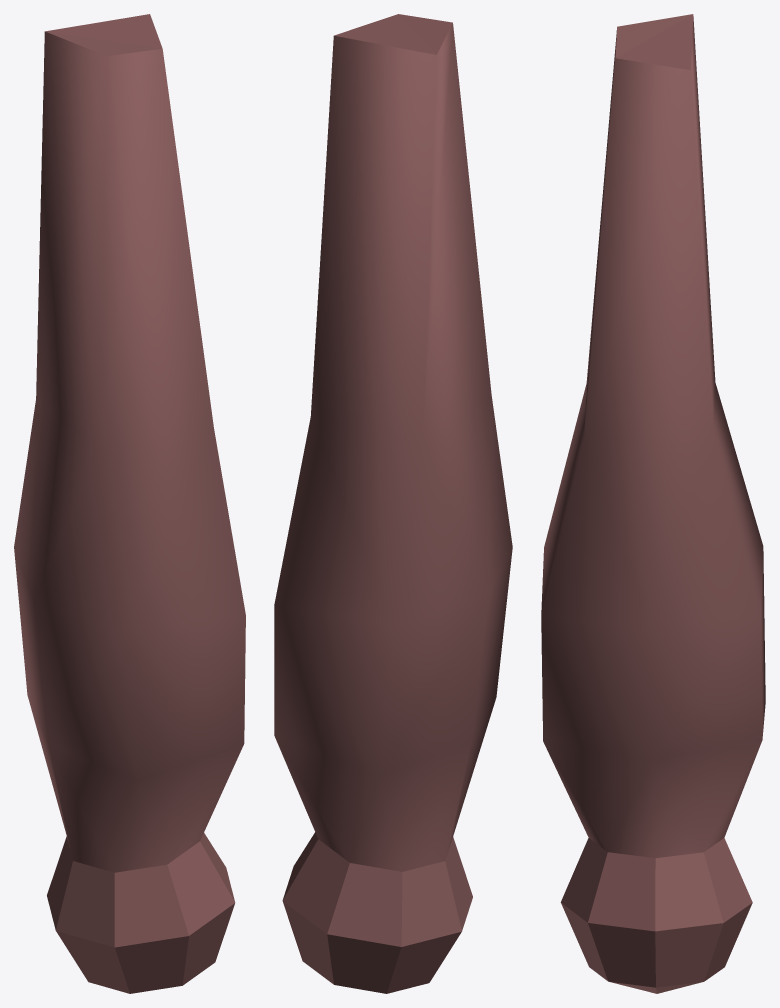
Rendered from forearm_r.dae.
The picture shows the model from 3 angles, left to right: view 1: azimuth 30°, elevation 25°; view 2: azimuth 150°, elevation 25°; view 3: azimuth 270°, elevation 25°; orthographic projection. The views are drawn at different scales.
Visible parts, largest first — view 1: Mesh_000; view 2: Mesh_000; view 3: Mesh_000.
Boxes of the visible parts, x1=… form: Mesh_000: x1=14, y1=14, x2=245, y2=993; Mesh_000: x1=274, y1=14, x2=512, y2=993; Mesh_000: x1=541, y1=14, x2=765, y2=993.
Bounding box in the file's own units: 1.07 × 1.1 × 5.09.
